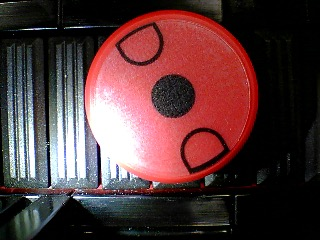BOHOMIPO2: (84, 10, 259, 184)
